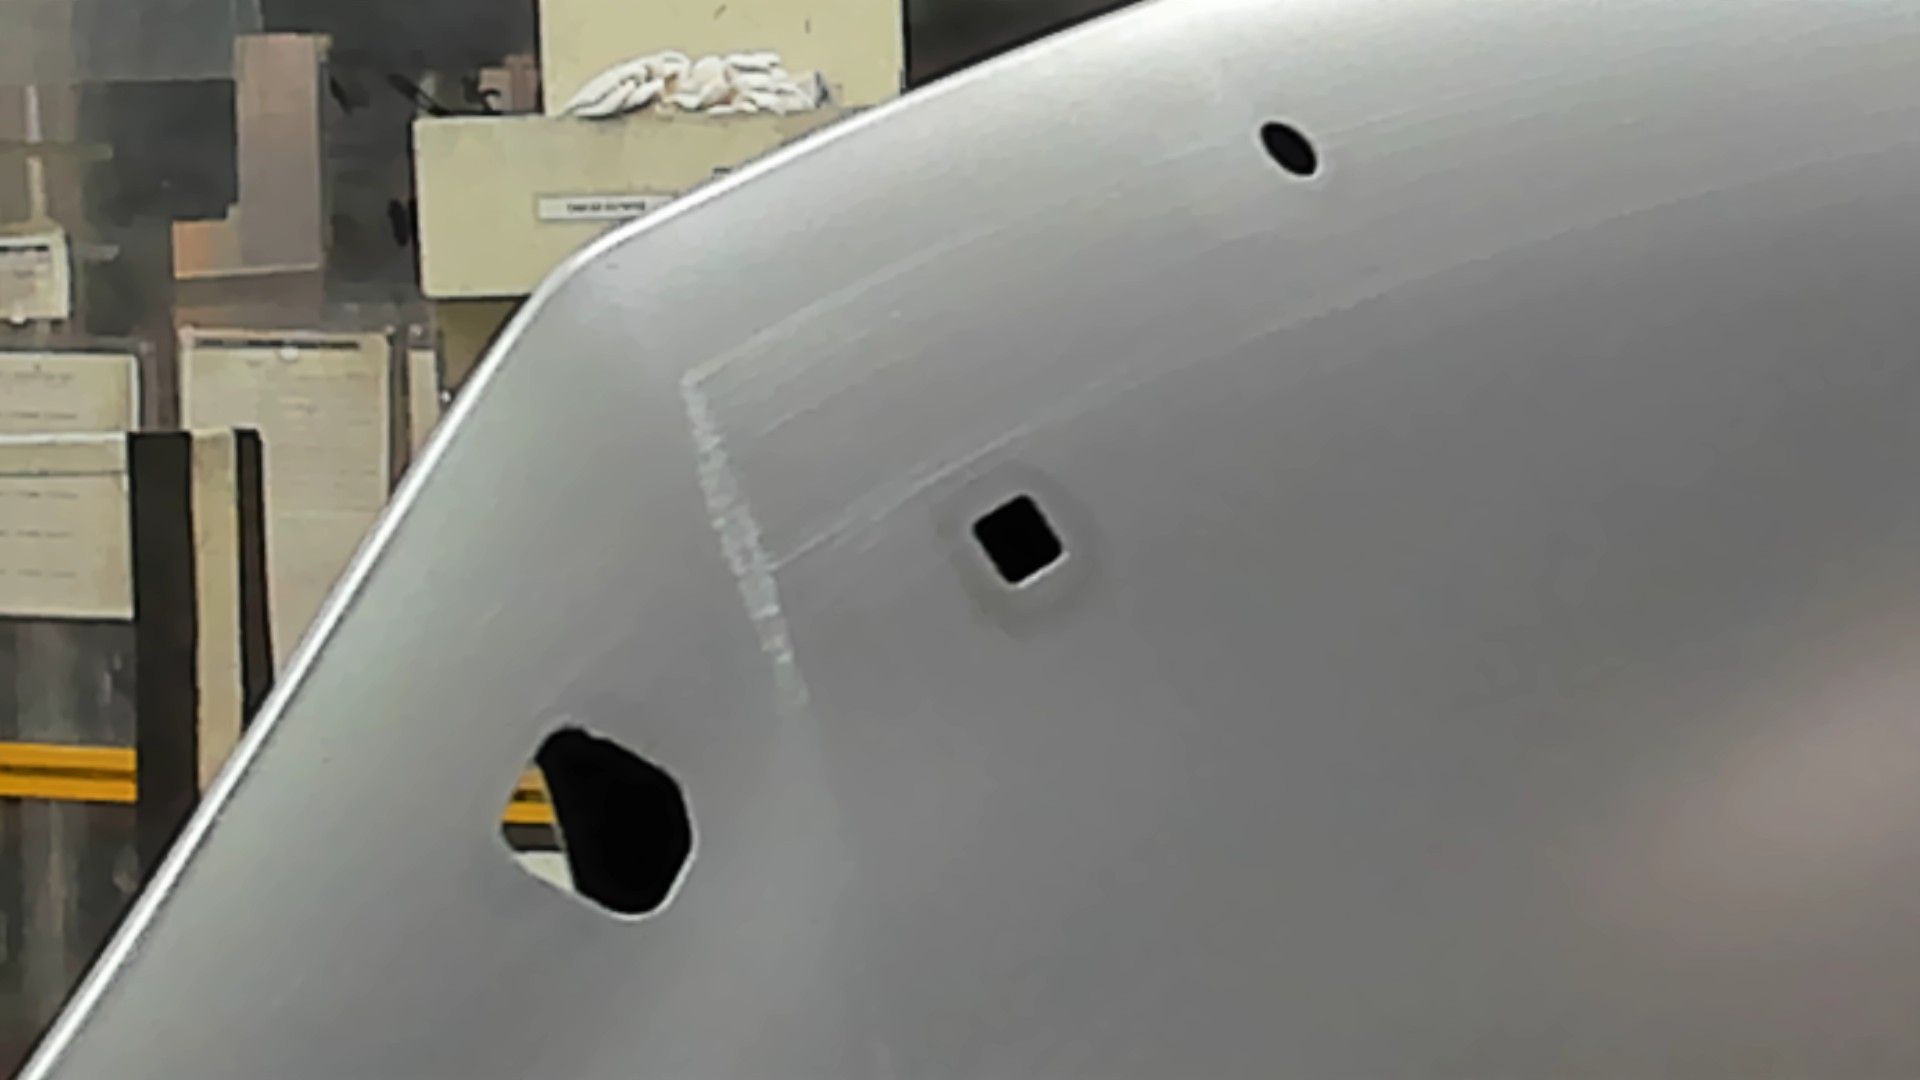capo: (1075, 189, 1920, 1080)
chico: (1251, 115, 1321, 181)
grande: (498, 720, 702, 928)
mediano: (965, 488, 1073, 596)
